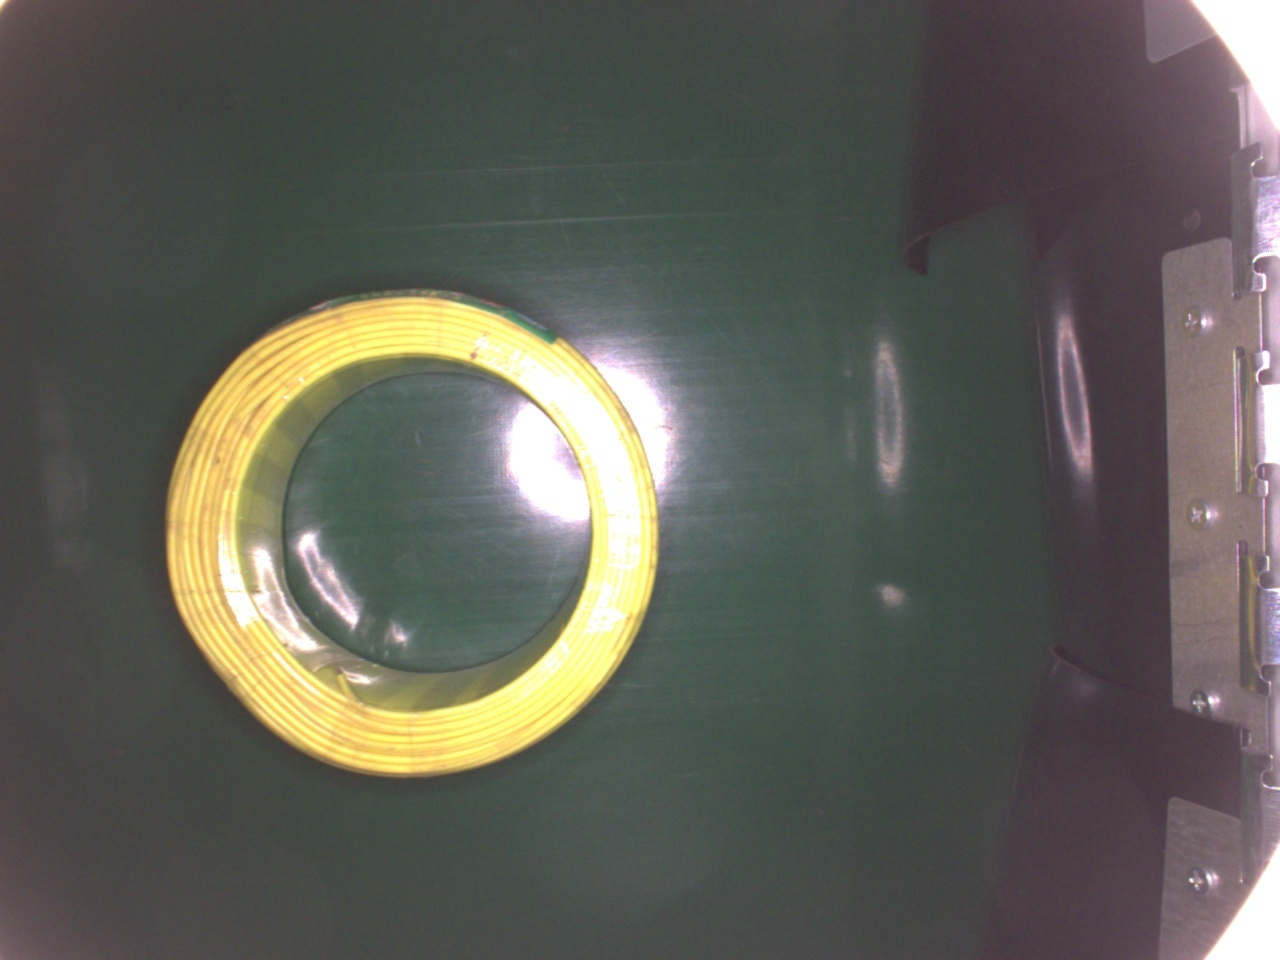yellow: (172, 285, 666, 772)
